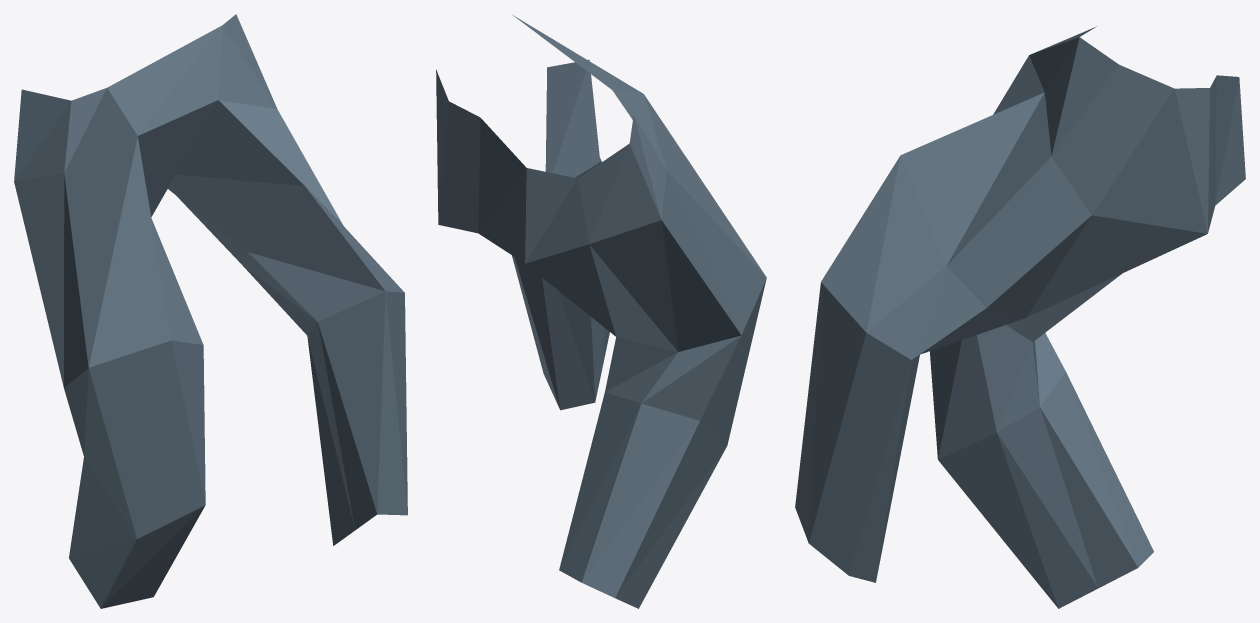
3 renders of one model, left to right at view 1: azimuth 30°, elevation 25°; view 2: azimuth 150°, elevation 25°; view 3: azimuth 270°, elevation 25°, orthographic. The views are drawn at different scales.
Bounding box in the file's own units: 0.6313 × 1.17 × 0.7672.
